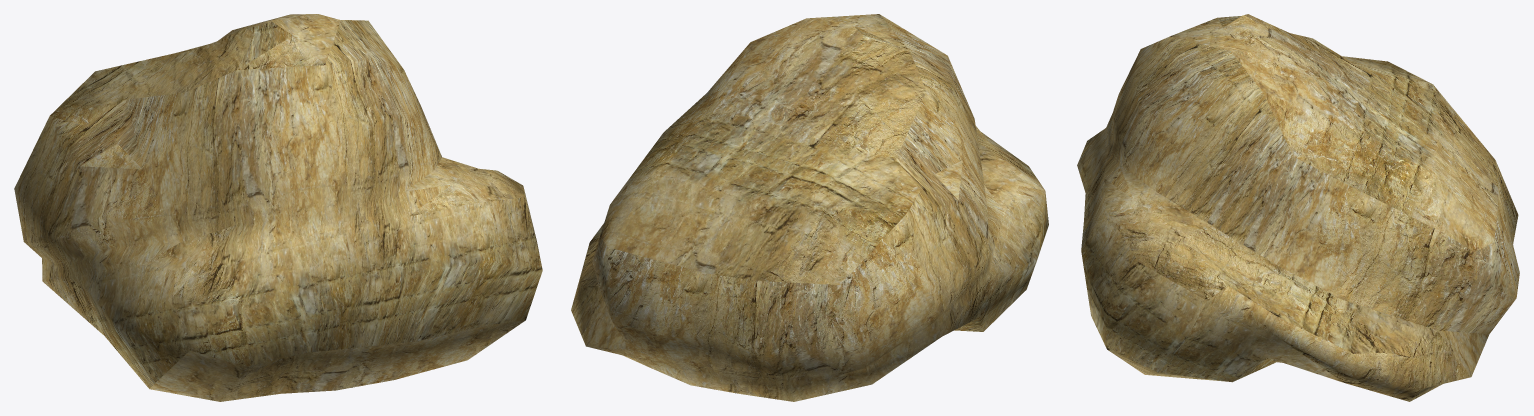
The model's file is Boulder16.dae.
The picture shows the model from 3 angles, left to right: view 1: azimuth 30°, elevation 25°; view 2: azimuth 150°, elevation 25°; view 3: azimuth 270°, elevation 25°; orthographic projection. The views are drawn at different scales.
Visible parts, largest first — view 1: rock0; view 2: rock0; view 3: rock0.
Part boxes in pixels (x1,y1,x2,y2): rock0: [14, 14, 542, 401]; rock0: [571, 14, 1048, 401]; rock0: [1077, 14, 1519, 401].
Bounding box in the file's own units: 1.63 × 1.63 × 1.24.
